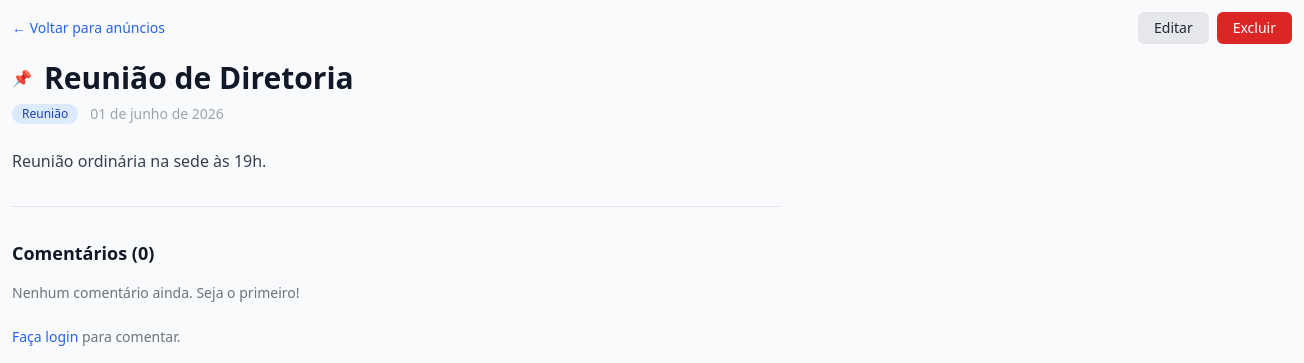
Test case: AnnouncementDetailPage — admin › solicita confirmação antes de excluir
Click the button "Excluir" at (1254, 28), box 1217,12 -> 1292,44
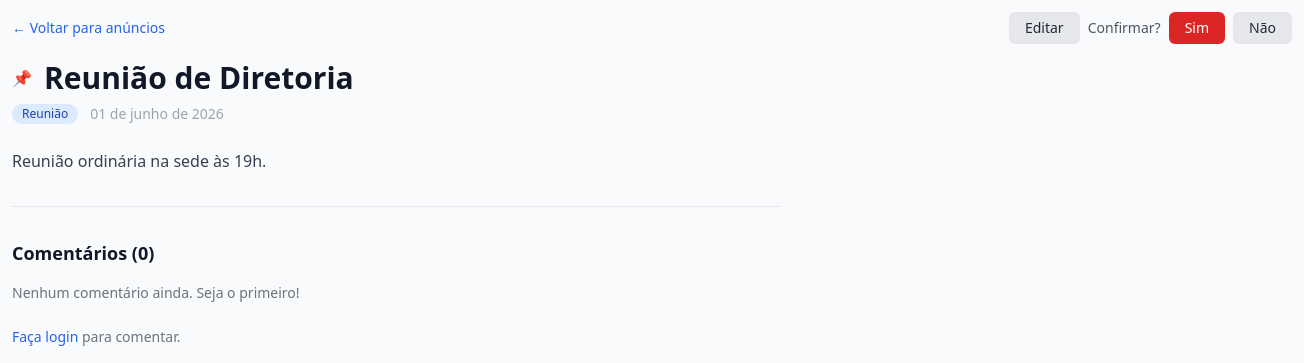
Check: the text "Confirmar?" is shown, box 1088,18 -> 1161,38
Check: the button "Sim" is shown, box 1169,12 -> 1225,44
Check: the button "Não" is shown, box 1233,12 -> 1292,44
